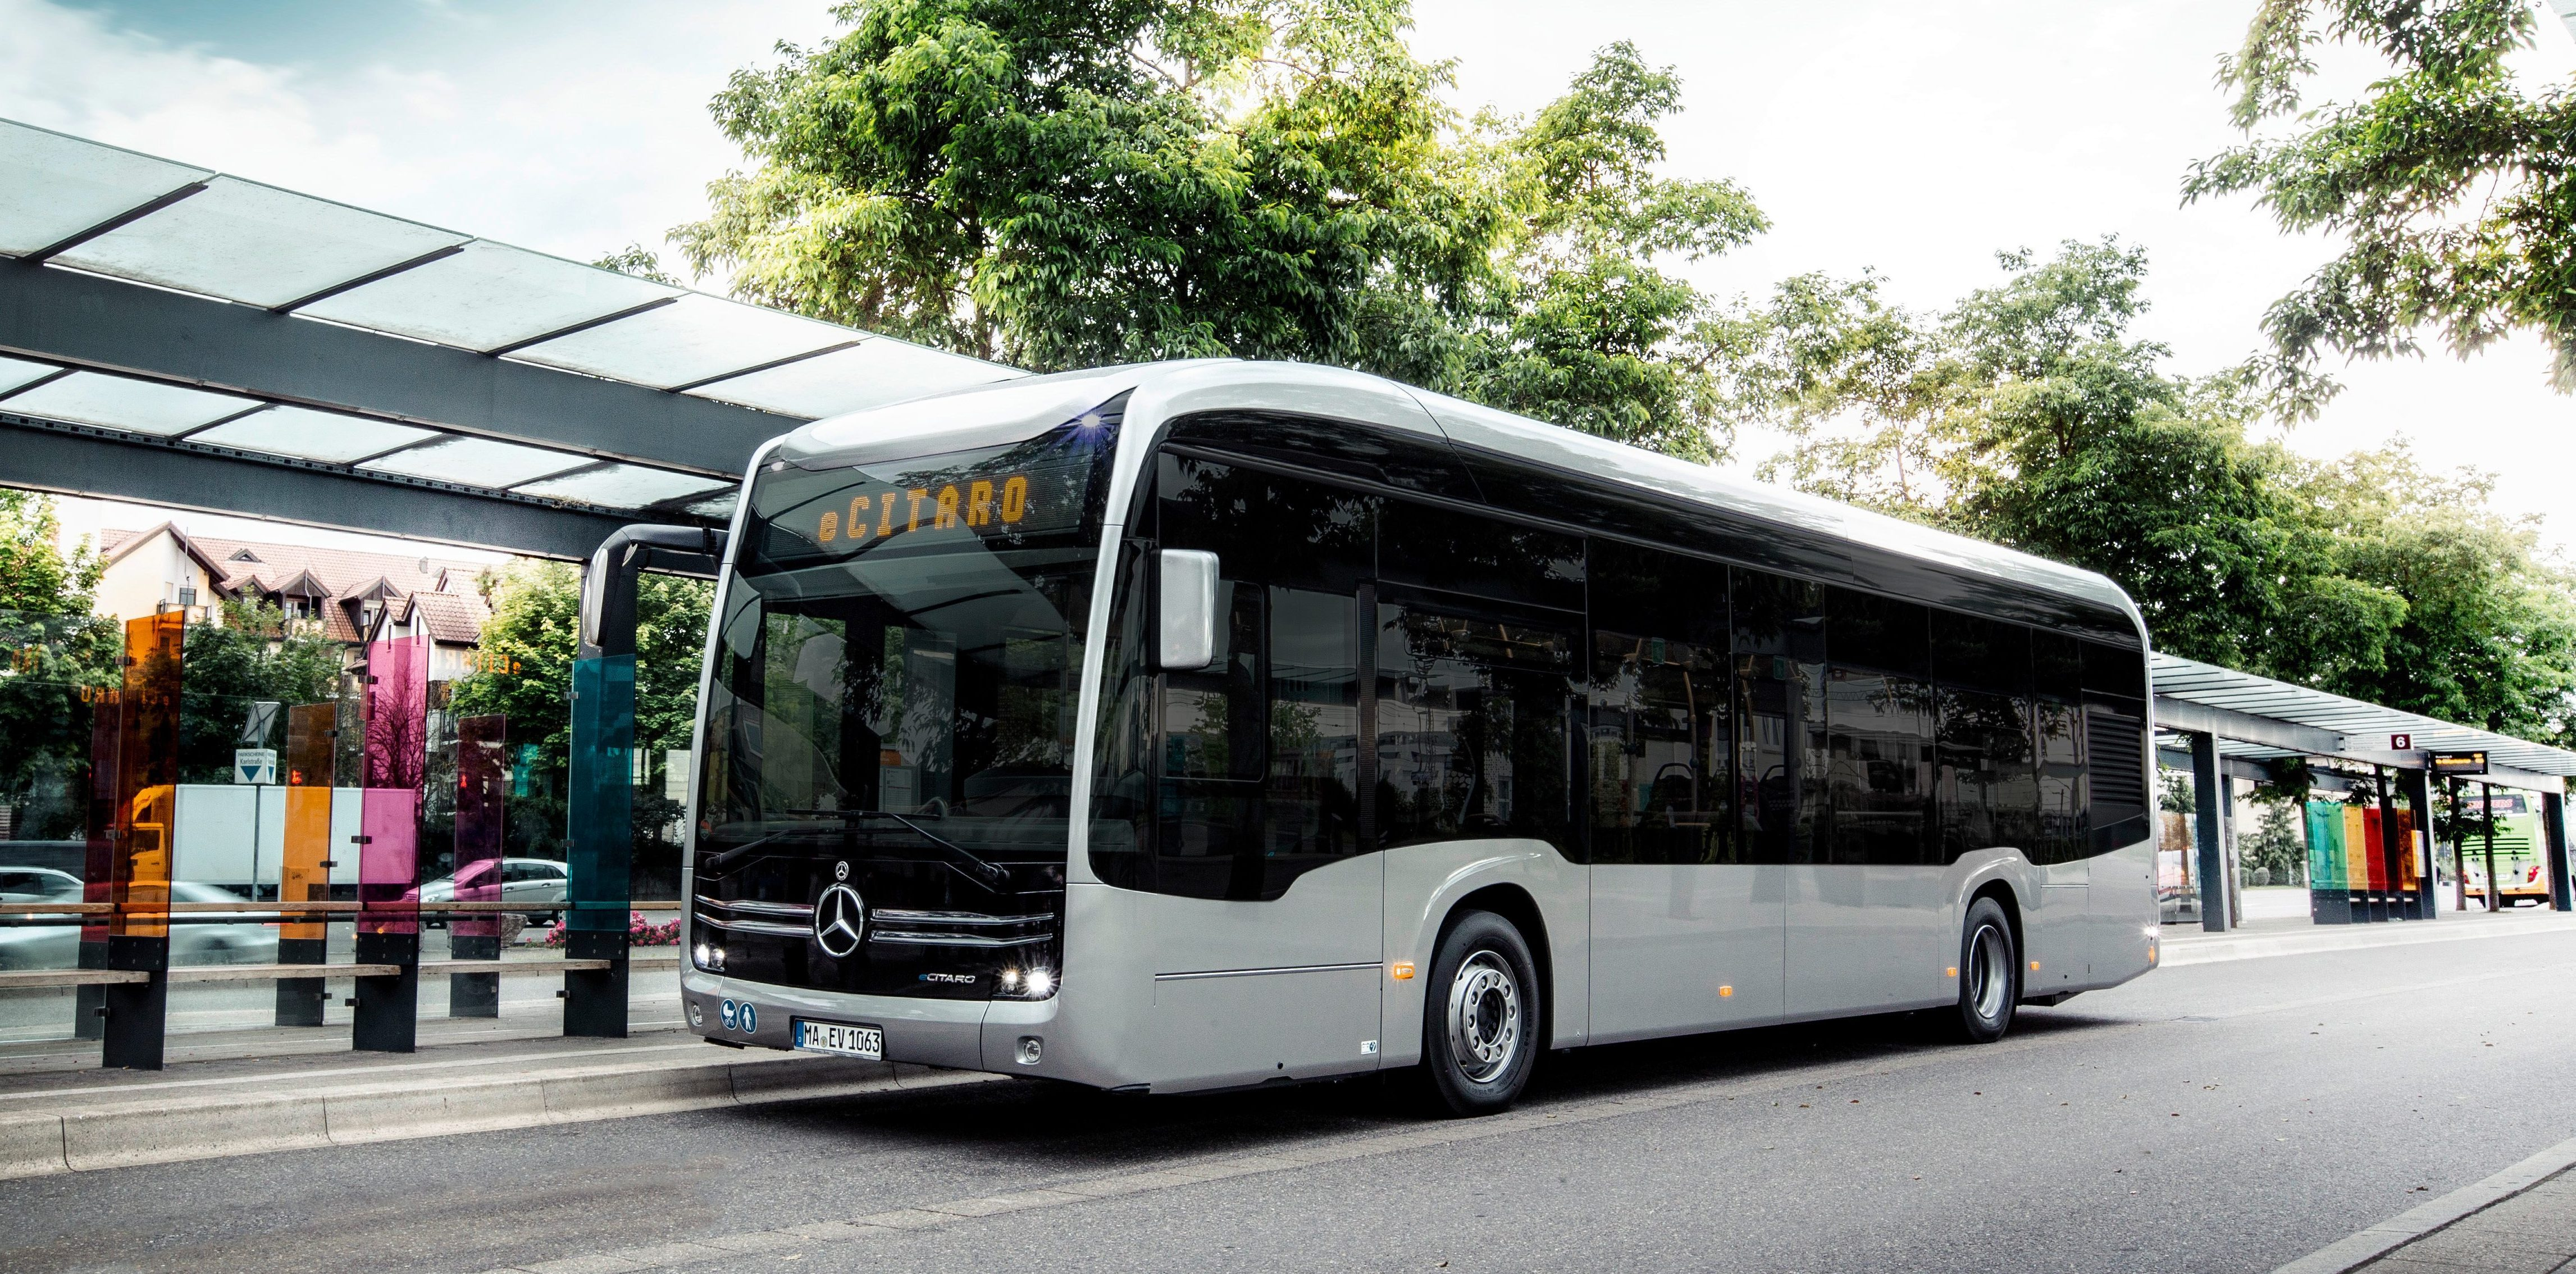bus: (682, 353, 2160, 1101)
